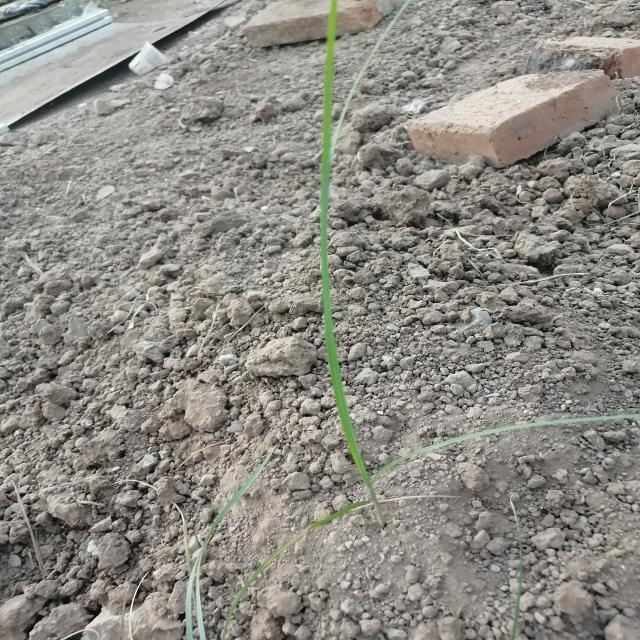sedge: (212, 31, 600, 545)
